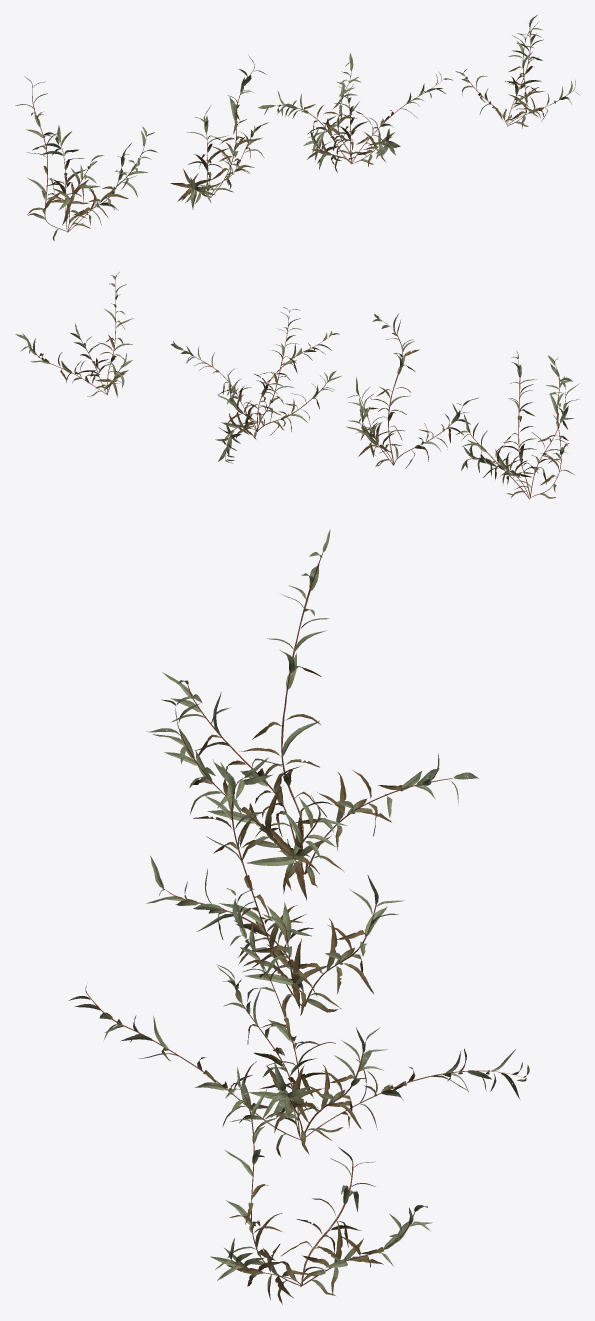
The model's file is shrub_02.glb.
3 renders of one model, top to bottom at view 1: azimuth 30°, elevation 25°; view 2: azimuth 150°, elevation 25°; view 3: azimuth 270°, elevation 25°, orthographic. The views are drawn at different scales.
Parts seen in each view (by area): view 1: shrub_02_a, shrub_02_c, shrub_02_b, shrub_02_d; view 2: shrub_02_c, shrub_02_a, shrub_02_b, shrub_02_d; view 3: shrub_02_a, shrub_02_c, shrub_02_b, shrub_02_d.
Part boxes in pixels (x1,y1,x2,y2): shrub_02_a: (15, 76, 157, 240); shrub_02_c: (258, 53, 452, 172); shrub_02_b: (170, 55, 268, 209); shrub_02_d: (455, 15, 579, 128); shrub_02_c: (171, 307, 341, 463); shrub_02_a: (455, 350, 579, 499); shrub_02_b: (346, 313, 478, 468); shrub_02_d: (15, 272, 133, 397); shrub_02_a: (146, 529, 478, 900); shrub_02_c: (68, 888, 529, 1157); shrub_02_b: (146, 757, 404, 1017); shrub_02_d: (210, 1067, 432, 1304).
Size of the model in its own units: 6.05 by 1.7 by 2.29.
Materials: 1 (1 with a texture image).
